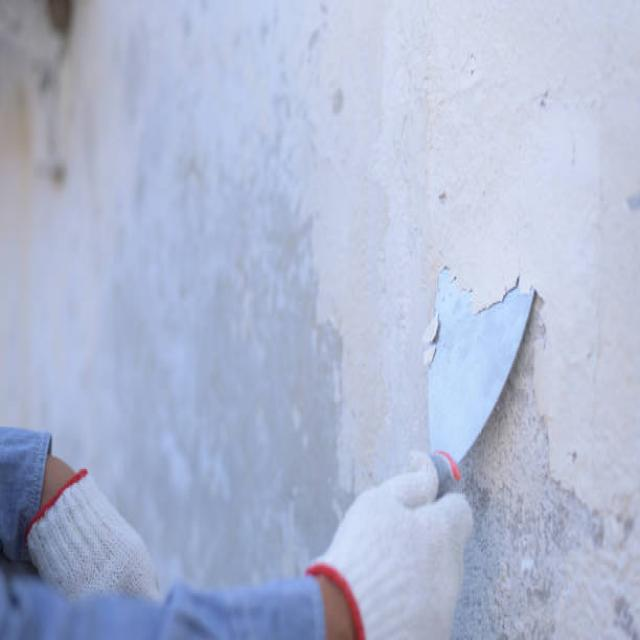gloves: (306, 445, 474, 640), (21, 466, 162, 605)
